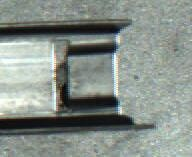press: (30, 17, 149, 130)
